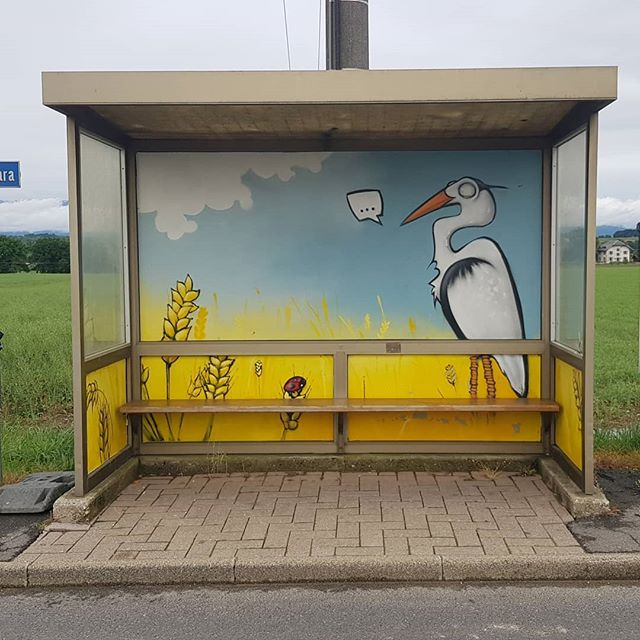graffiti: (73, 123, 573, 500)
sidewalk: (27, 434, 638, 585)
